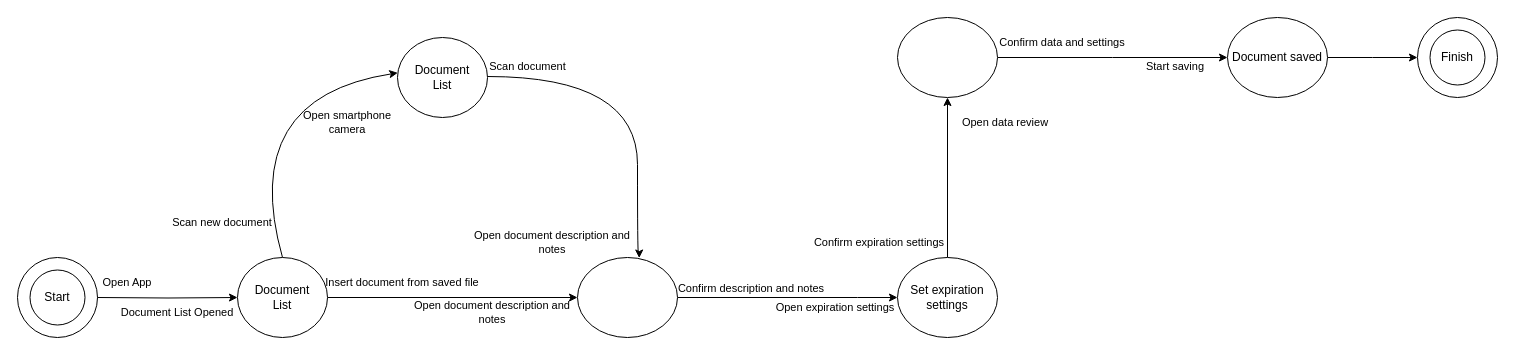
Some shapes in this 1515 by 355 pixel diagram are drawn without their labels. The centre of each missing label's shape, as x and y in pixels:
Document data and expiration settings review: point (947, 57)
Fill d ocument description and notes: point (627, 297)
